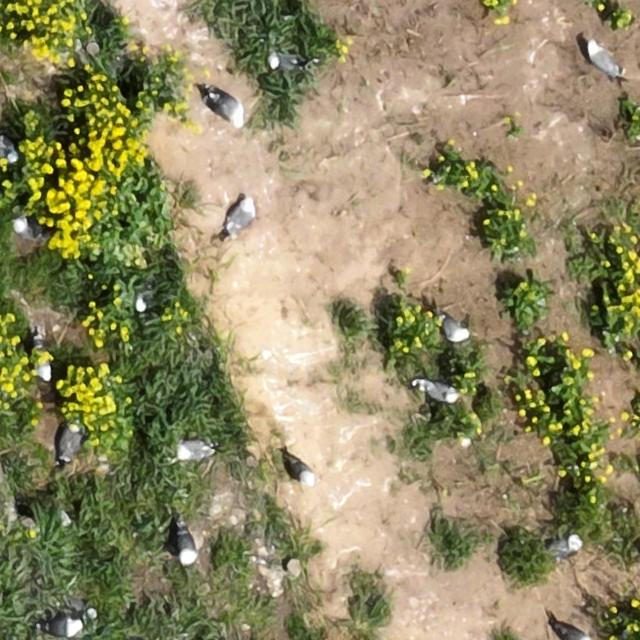umineko: (213, 93, 246, 123), (588, 44, 618, 76), (226, 198, 254, 231), (58, 424, 81, 460), (420, 380, 456, 401), (45, 617, 82, 636), (289, 459, 315, 486), (178, 529, 198, 564), (179, 440, 212, 460), (440, 317, 467, 341), (14, 219, 41, 241), (554, 537, 581, 556), (268, 54, 300, 70), (560, 625, 592, 640), (0, 134, 16, 160), (134, 289, 151, 313), (36, 360, 54, 382)
